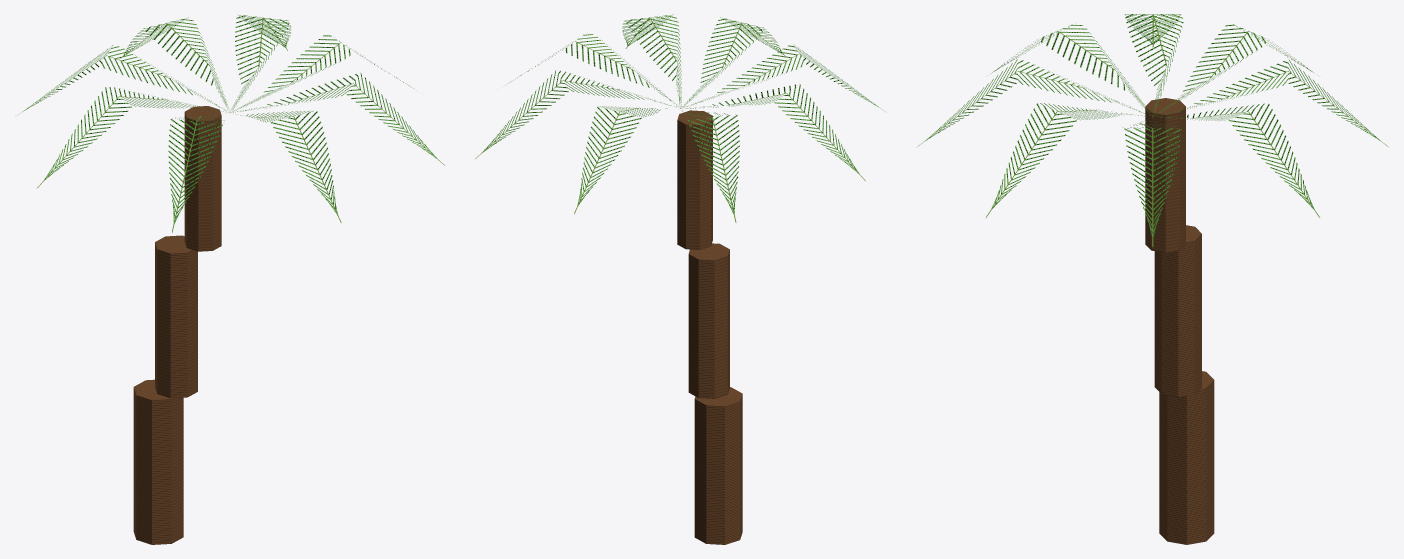
File: palm_tree.obj
3 views of the same model, side by side, from view 1: azimuth 30°, elevation 25°; view 2: azimuth 150°, elevation 25°; view 3: azimuth 270°, elevation 25° (orthographic). The views are drawn at different scales.
Size of the model in its own units: 5.6 by 6.4 by 5.6.
2 materials, 2 textured.
